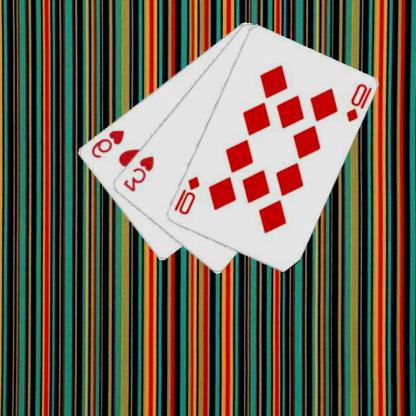10D: (345, 80, 375, 124), (172, 174, 202, 217)
3H: (122, 152, 157, 194)
6H: (90, 126, 128, 160)
